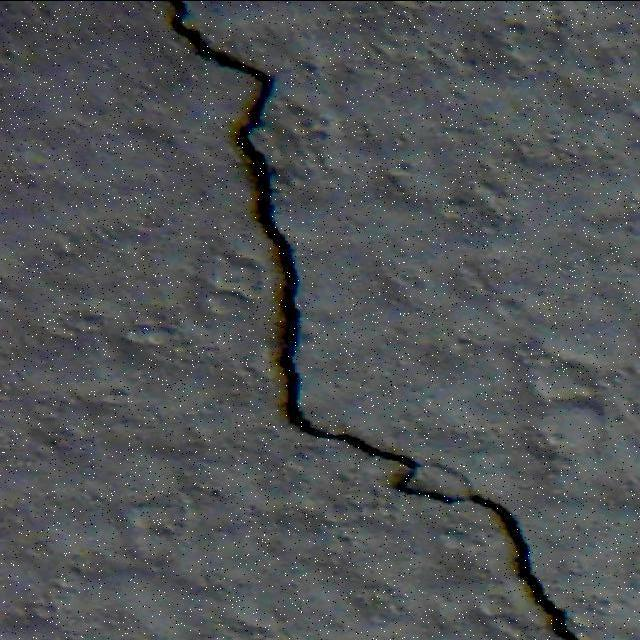Crack: (164, 1, 579, 638)
